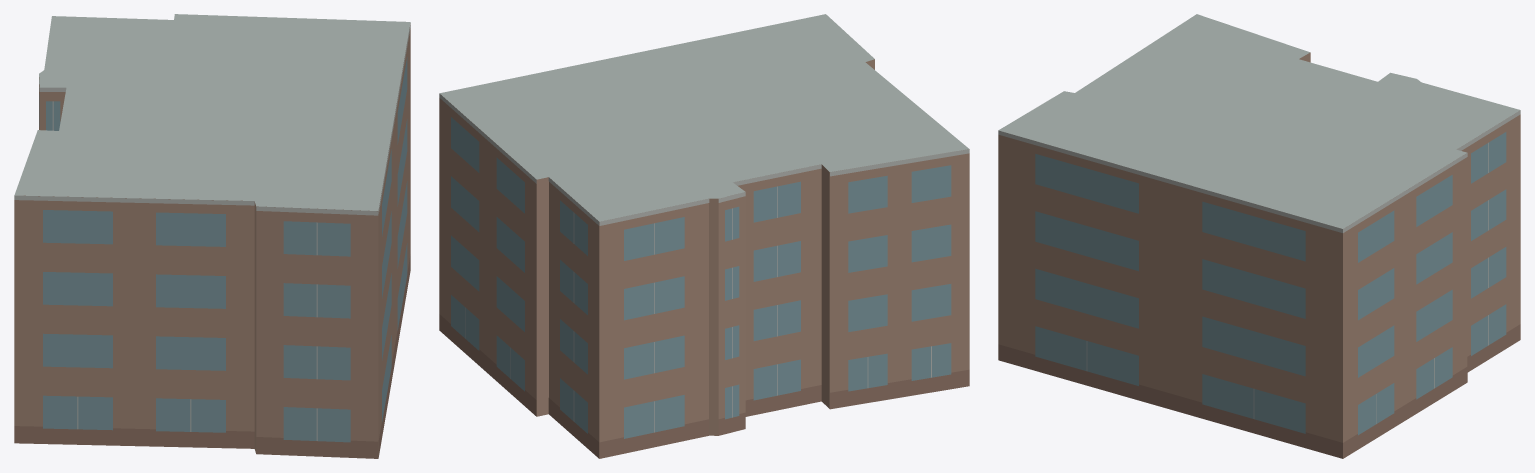
The model's file is survey-upis-32650361.glb.
3 renders of one model, left to right at view 1: azimuth 30°, elevation 25°; view 2: azimuth 150°, elevation 25°; view 3: azimuth 270°, elevation 25°, orthographic. The views are drawn at different scales.
Parts seen in each view (by area): view 1: survey-upis-32650361.tmp; view 2: survey-upis-32650361.tmp; view 3: survey-upis-32650361.tmp.
Part boxes in pixels (x1,y1,x2,y2): survey-upis-32650361.tmp: [14, 14, 410, 458]; survey-upis-32650361.tmp: [439, 14, 969, 458]; survey-upis-32650361.tmp: [998, 14, 1520, 458].
Size of the model in its own units: 26.9 by 13.4 by 27.61.
